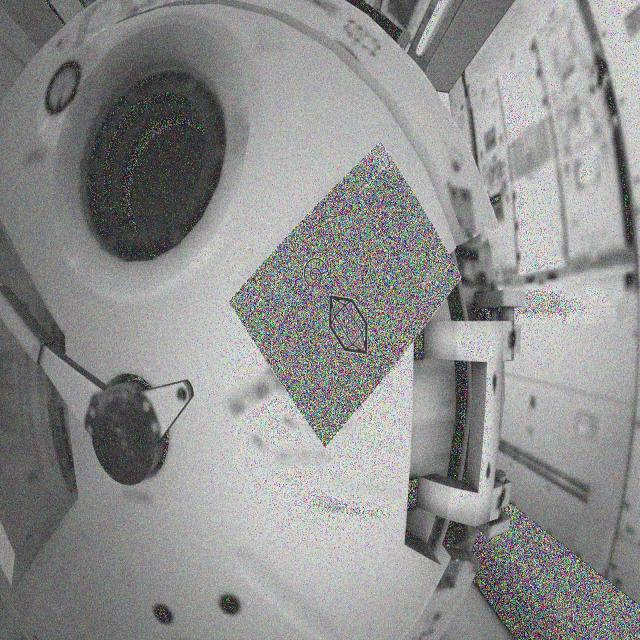crystal: (325, 287, 383, 368)
fossil: (296, 249, 335, 293)
